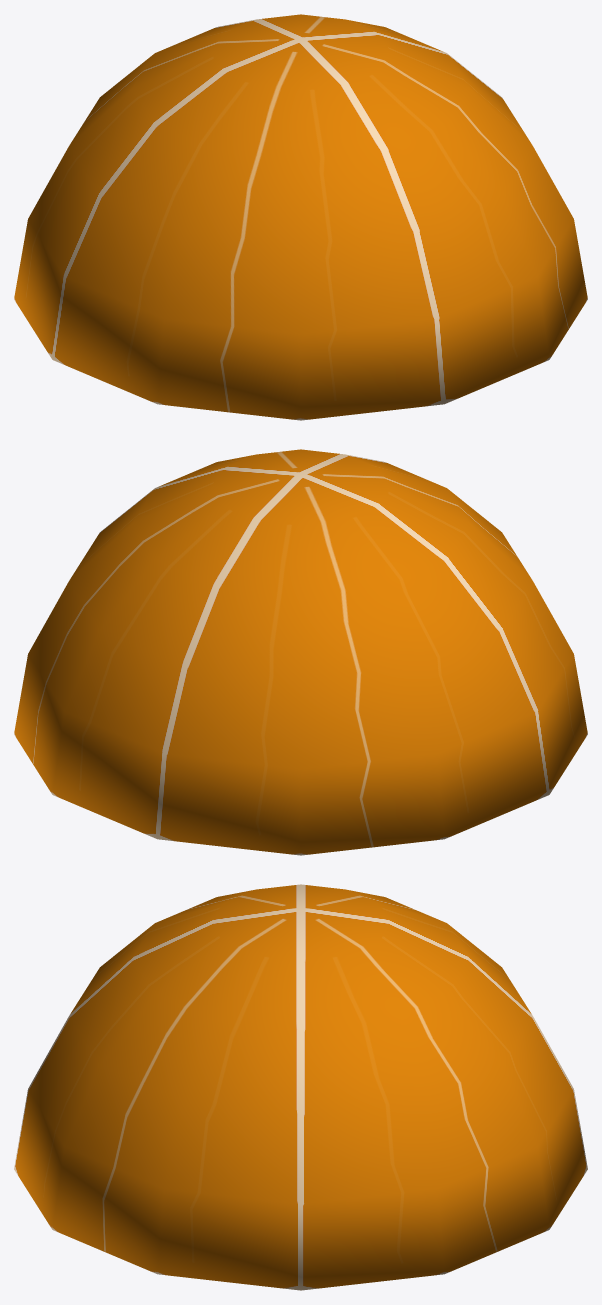
Rendered from SphereCap_LQ.obj.
The picture shows the model from 3 angles, top to bottom: view 1: azimuth 30°, elevation 25°; view 2: azimuth 150°, elevation 25°; view 3: azimuth 270°, elevation 25°; orthographic projection.
Parts seen in each view (by area): view 1: SphereCap_LQ_Sphere.003; view 2: SphereCap_LQ_Sphere.003; view 3: SphereCap_LQ_Sphere.003.
Part boxes in pixels (x1,y1,x2,y2): SphereCap_LQ_Sphere.003: (14, 14, 587, 420); SphereCap_LQ_Sphere.003: (14, 449, 587, 855); SphereCap_LQ_Sphere.003: (14, 884, 587, 1290).
Bounding box in the file's own units: 1 × 0.5 × 1.
1 material, 1 textured.
